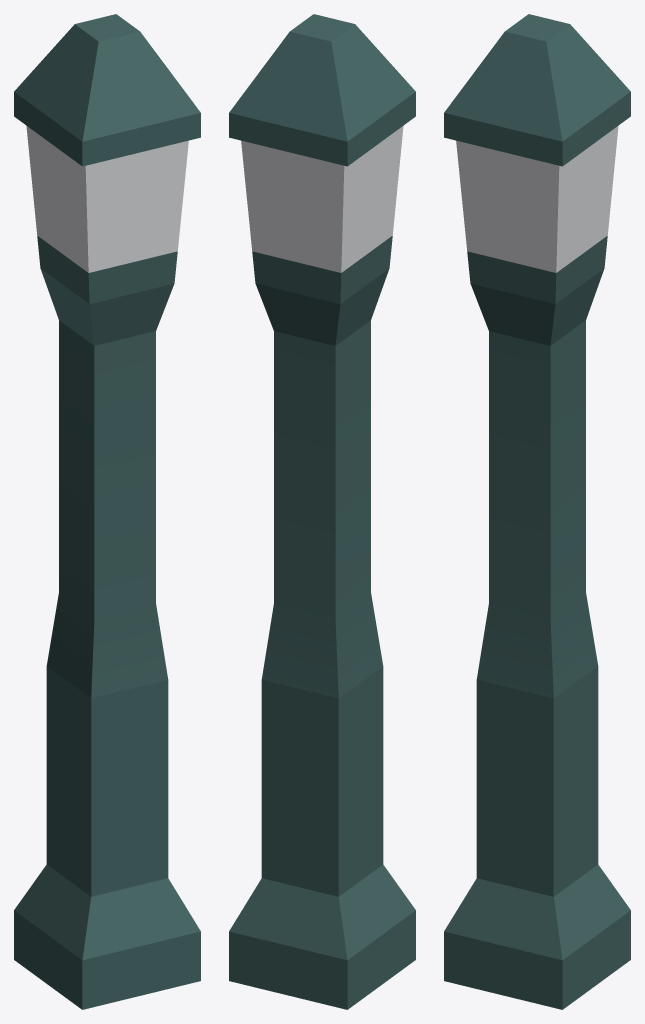
File: Lightpost_01.obj
3 renders of one model, left to right at view 1: azimuth 30°, elevation 25°; view 2: azimuth 150°, elevation 25°; view 3: azimuth 330°, elevation 25°, orthographic.
Visible parts, largest first — view 1: Mesh1 Lightpost Model; view 2: Mesh1 Lightpost Model; view 3: Mesh1 Lightpost Model.
Boxes of the visible parts, box(x1,y1,x2,y2) form: Mesh1 Lightpost Model: box(14, 14, 200, 1009); Mesh1 Lightpost Model: box(229, 14, 415, 1009); Mesh1 Lightpost Model: box(444, 14, 630, 1009).
Size of the model in its own units: 0.5 by 3.8 by 0.5.
